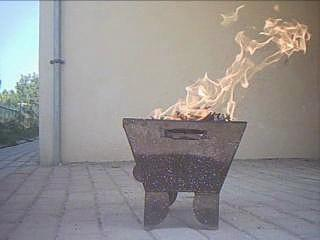fire: (163, 15, 307, 126)
